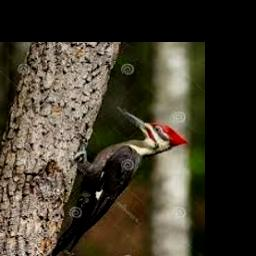Woodpecker: (44, 107, 186, 256)
